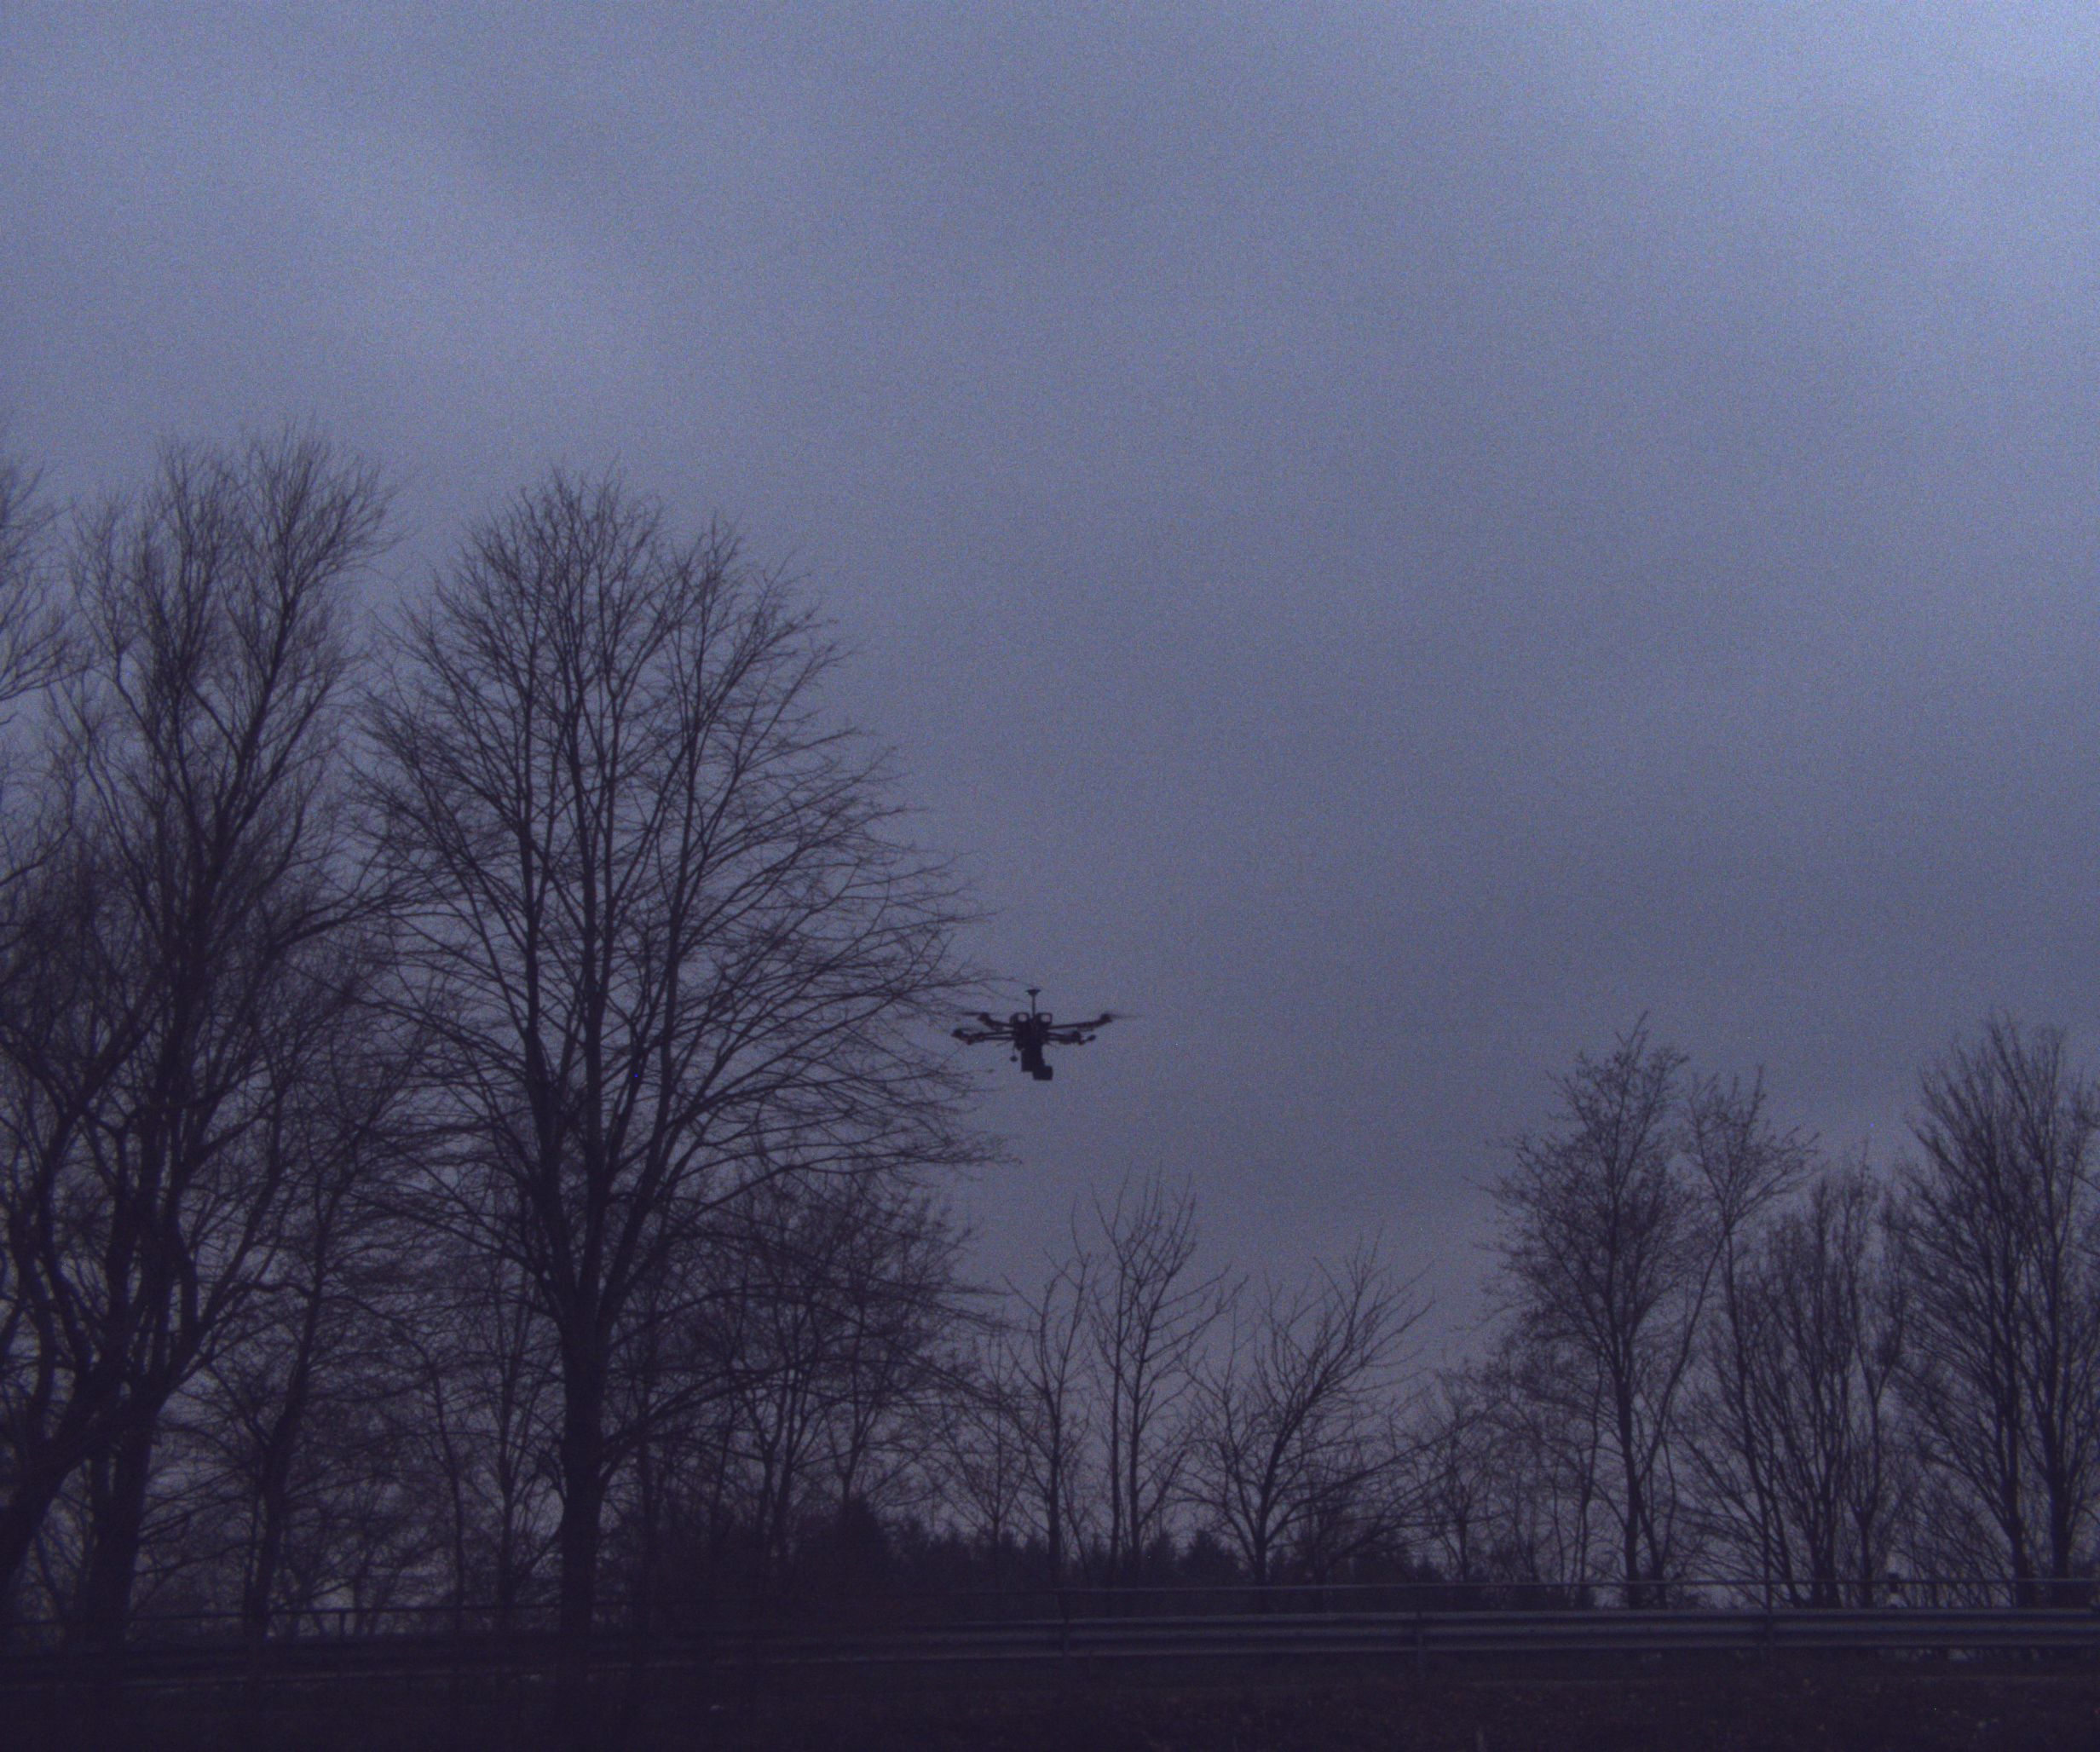Drohne: (924, 980, 1127, 1105)
